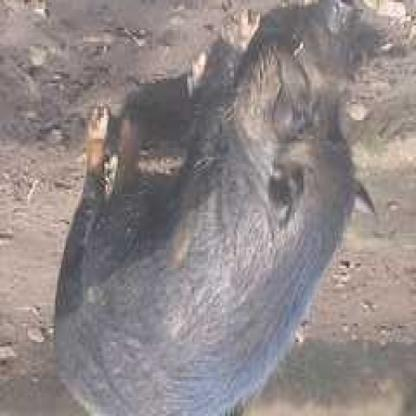boar: (41, 1, 375, 416)
